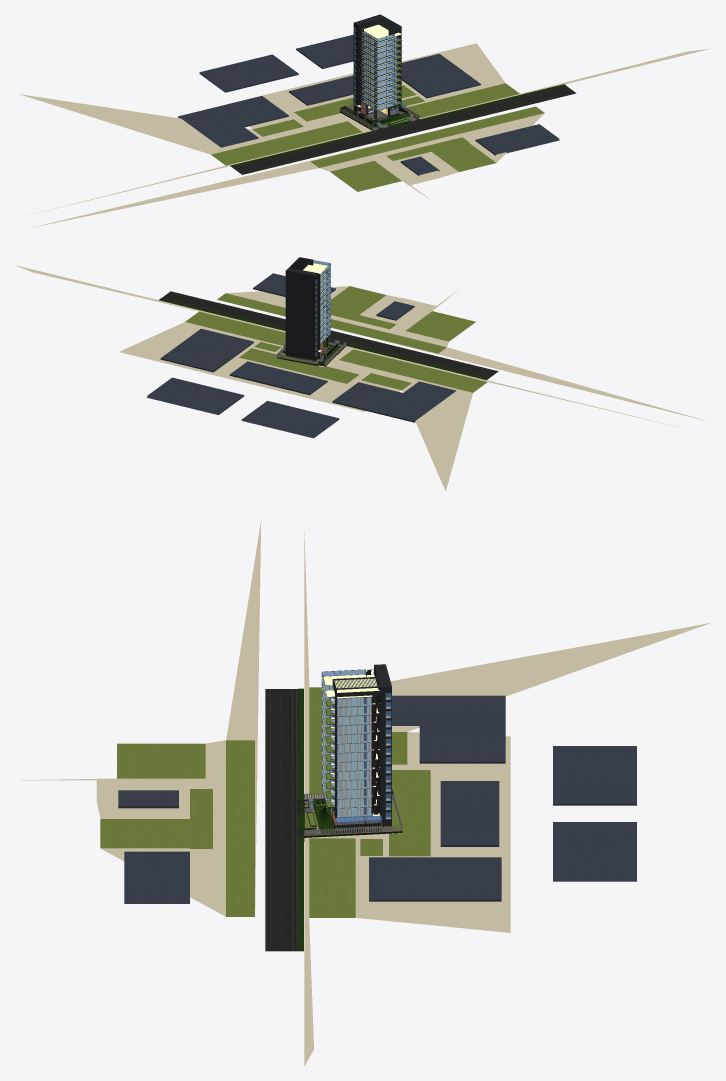
Rendered from golpo-aleya-building-coloured.glb.
The picture shows the model from 3 angles, top to bottom: view 1: azimuth 30°, elevation 25°; view 2: azimuth 150°, elevation 25°; view 3: azimuth 270°, elevation 25°; orthographic projection. The views are drawn at different scales.
Visible parts, largest first — view 1: Carpet_Pattern_Squares_Multi, Suede_Blue, B01_Ivory_Dust, Pavers_Flagstone_Gray, Asphalt_10_1K, Translucent_Glass_Gray, Carpet_02_1K1, Metal_01_1K; view 2: Carpet_Pattern_Squares_Multi, Suede_Blue, B01_Ivory_Dust, Pavers_Flagstone_Gray, Asphalt_10_1K, Translucent_Glass_Gray, Carpet_02_1K1; view 3: Suede_Blue, Carpet_Pattern_Squares_Multi, B01_Ivory_Dust, Pavers_Flagstone_Gray, Asphalt_10_1K, Translucent_Glass_Gray, Carpet_02_1K1, Wax_02, Metal_01_1K, Carpet_14_1K.
Part boxes in pixels (left/top/right/bottom): Carpet_Pattern_Squares_Multi: left=19, top=43, right=710, bottom=227; Suede_Blue: left=178, top=34, right=559, bottom=175; B01_Ivory_Dust: left=211, top=83, right=544, bottom=191; Pavers_Flagstone_Gray: left=353, top=14, right=401, bottom=119; Asphalt_10_1K: left=232, top=86, right=576, bottom=174; Translucent_Glass_Gray: left=354, top=27, right=410, bottom=127; Carpet_02_1K1: left=230, top=84, right=565, bottom=167; Metal_01_1K: left=340, top=27, right=394, bottom=126; Carpet_Pattern_Squares_Multi: left=15, top=265, right=708, bottom=491; Suede_Blue: left=147, top=273, right=456, bottom=438; B01_Ivory_Dust: left=185, top=286, right=487, bottom=392; Pavers_Flagstone_Gray: left=285, top=257, right=330, bottom=360; Asphalt_10_1K: left=161, top=291, right=498, bottom=378; Translucent_Glass_Gray: left=284, top=260, right=336, bottom=355; Carpet_02_1K1: left=159, top=298, right=488, bottom=379; Suede_Blue: left=118, top=695, right=636, bottom=903; Carpet_Pattern_Squares_Multi: left=21, top=520, right=711, bottom=1065; B01_Ivory_Dust: left=100, top=687, right=430, bottom=917; Pavers_Flagstone_Gray: left=321, top=664, right=391, bottom=824; Asphalt_10_1K: left=265, top=689, right=304, bottom=951; Translucent_Glass_Gray: left=304, top=669, right=390, bottom=824; Carpet_02_1K1: left=298, top=688, right=313, bottom=951; Wax_02: left=333, top=697, right=378, bottom=824; Metal_01_1K: left=308, top=669, right=393, bottom=814; Carpet_14_1K: left=303, top=699, right=400, bottom=835.
Size of the model in its own units: 421 by 52.92 by 227.
59 materials, 28 textured.
